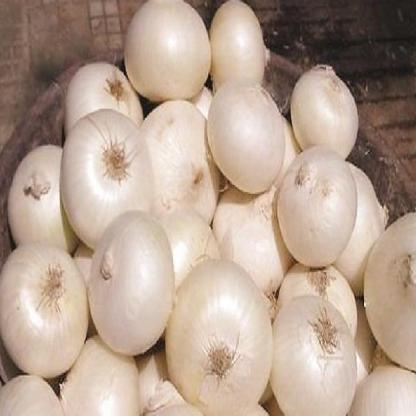onion: (162, 259, 274, 415), (79, 194, 180, 364), (271, 149, 356, 263), (0, 240, 84, 350), (129, 0, 212, 105), (65, 110, 144, 218), (212, 77, 278, 192), (297, 58, 356, 145)
